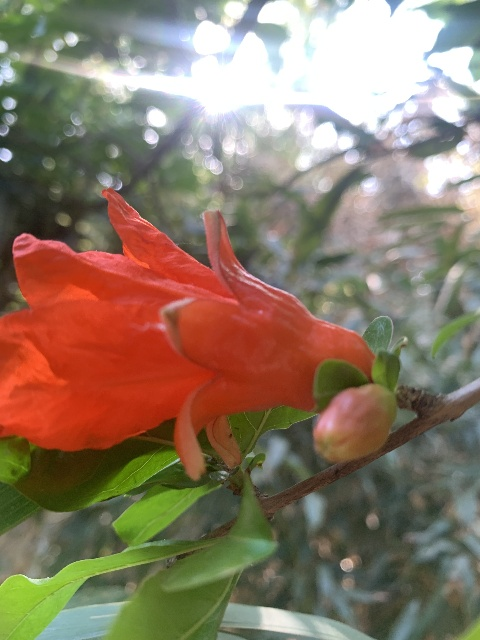bud: (312, 383, 395, 466)
flower: (0, 181, 377, 483)
